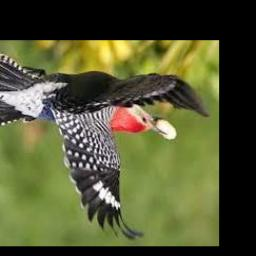Woodpecker: (0, 54, 210, 241)
